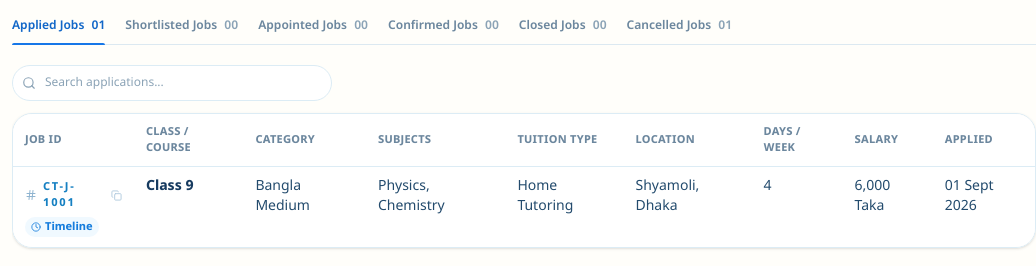
Test: the Tutor's Status tab › opens on Applied and swaps the list when another stage is clicked
expect the button "CT-J-1001" is shown: met, box [21,177,126,213]
expect the text "CT-J-2002" is not shown: met
Click the tab "Cancelled Jobs 01": coordinates (679, 28) [627,12,732,44]
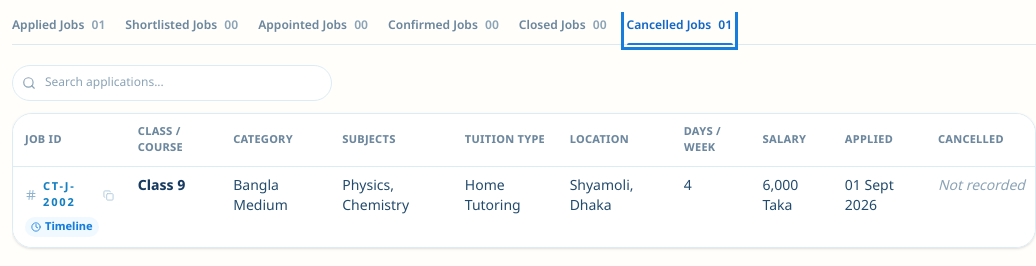
expect the button "CT-J-2002" is shown: met, box [21,177,118,213]
expect the button "CT-J-1001" is gone: met
